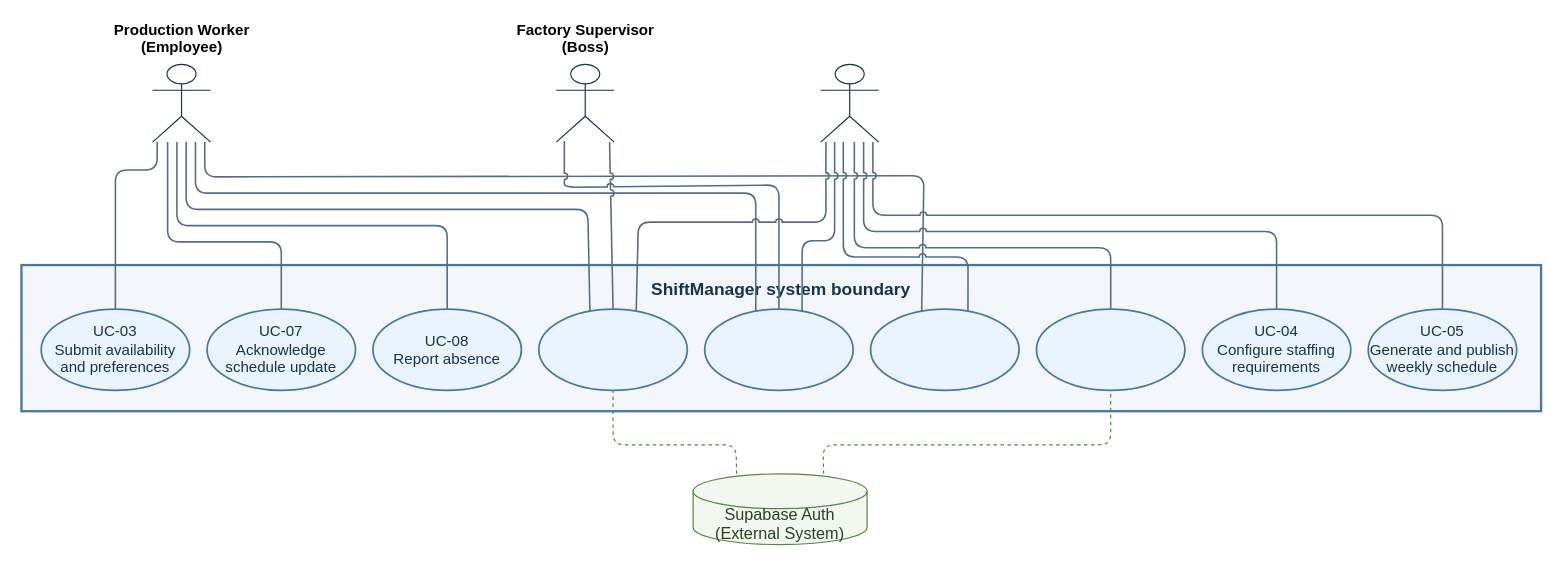
This 1561x565 diagram has some shape labels left out. The shapes that lost their labels are listed below. From the top down, each one's centre as x and y in pixels, then its label:
At point 849,102: "Shift Manager (Manager)".
At point 612,349: "UC-01 Sign in and sign out".
At point 778,349: "UC-06 View published schedule and changes".
At point 944,349: "UC-09 Arrange replacement coverage".
At point 1110,349: "UC-02 Manage Employee accounts".
